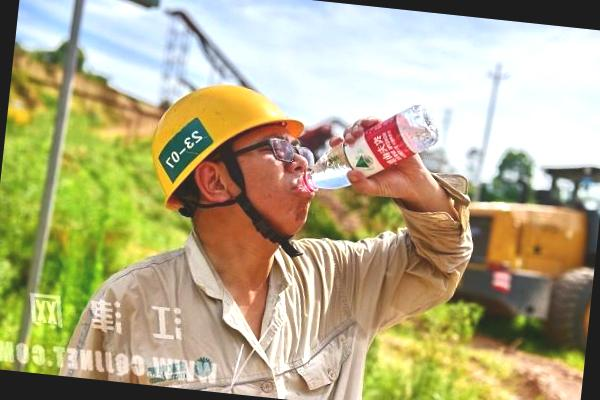helmet: (143, 72, 312, 226)
no_vest: (126, 219, 383, 400)
person: (70, 48, 489, 400)
